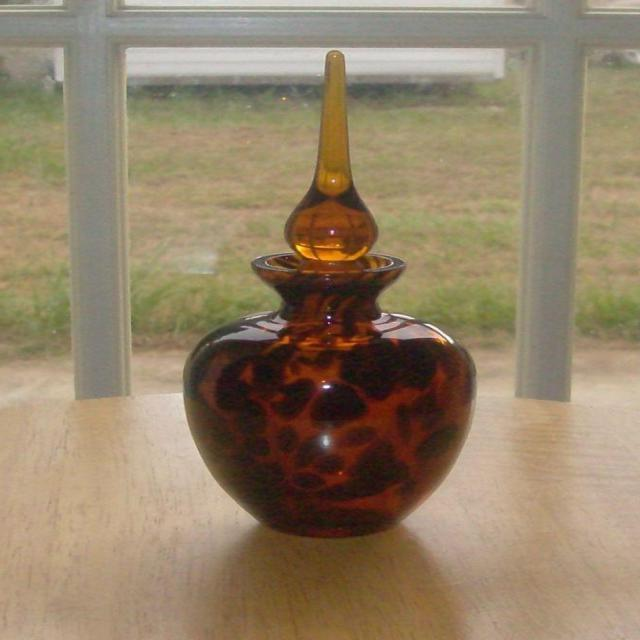glass: (172, 27, 478, 544)
